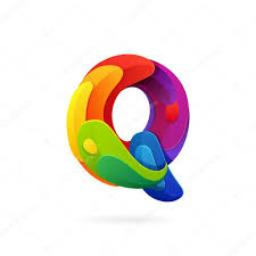q: (61, 48, 197, 206)
